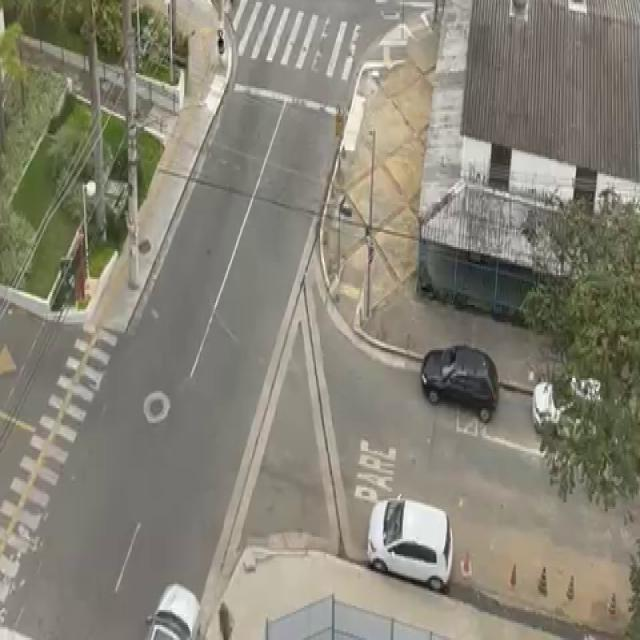car: (364, 486, 456, 600), (526, 359, 634, 451), (414, 339, 504, 426), (135, 576, 206, 640)
